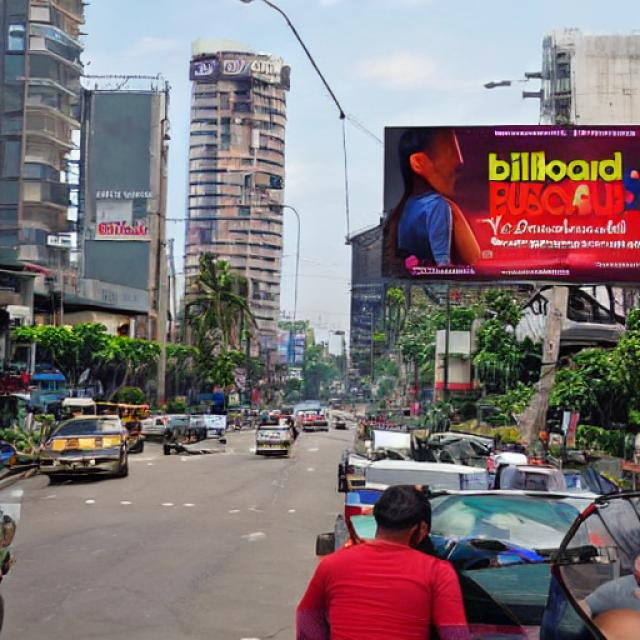Billboard: (381, 123, 640, 286)
